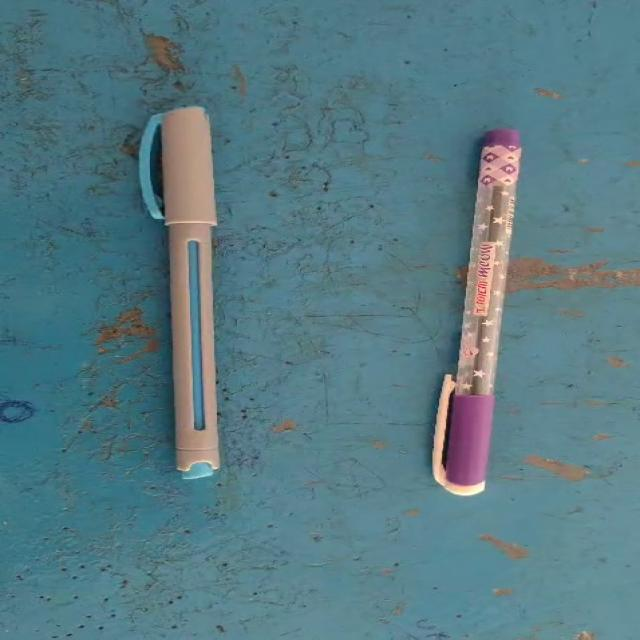pen: (69, 42, 303, 516), (392, 120, 569, 509)
